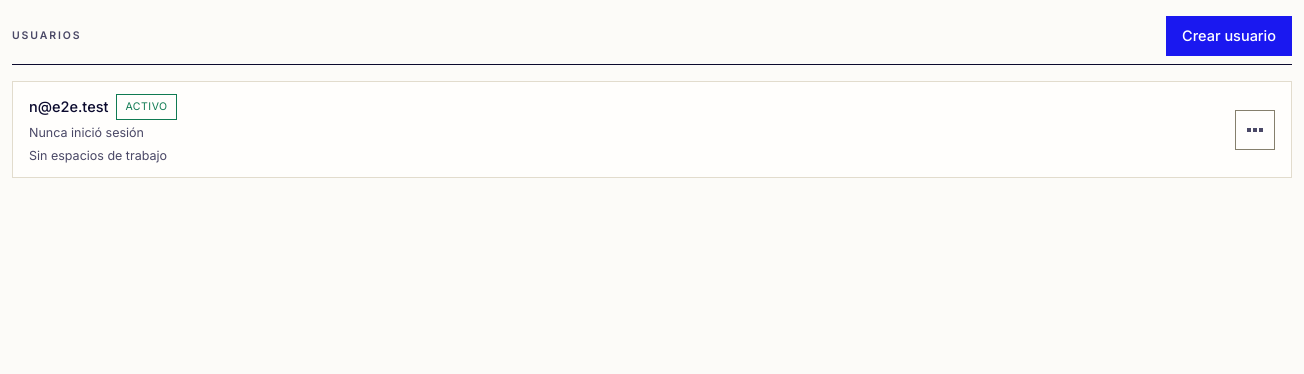
it: renders the installation users in Spanish: never signed in, and the superadmin role in words
Expected: the text "Nunca inició sesión" is shown, [29,125,144,140]
Click the button named "Acciones para n@e2e.test".
click(1255, 130)  # box [1235,110,1275,150]
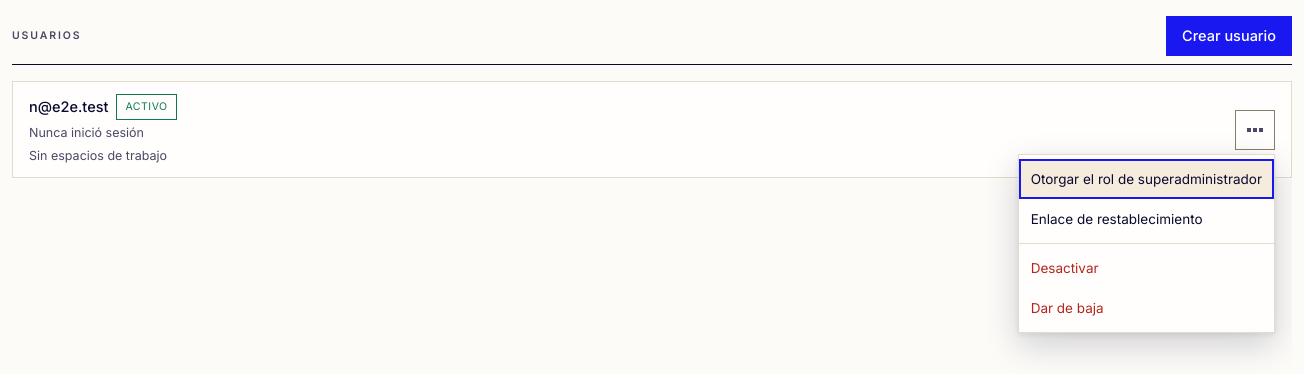
Result: the menu item with aria-label "Otorgar el rol de superadministrador a n@e2e.test" reads "Otorgar el rol de superadministrador" at [1019,159,1274,199]
